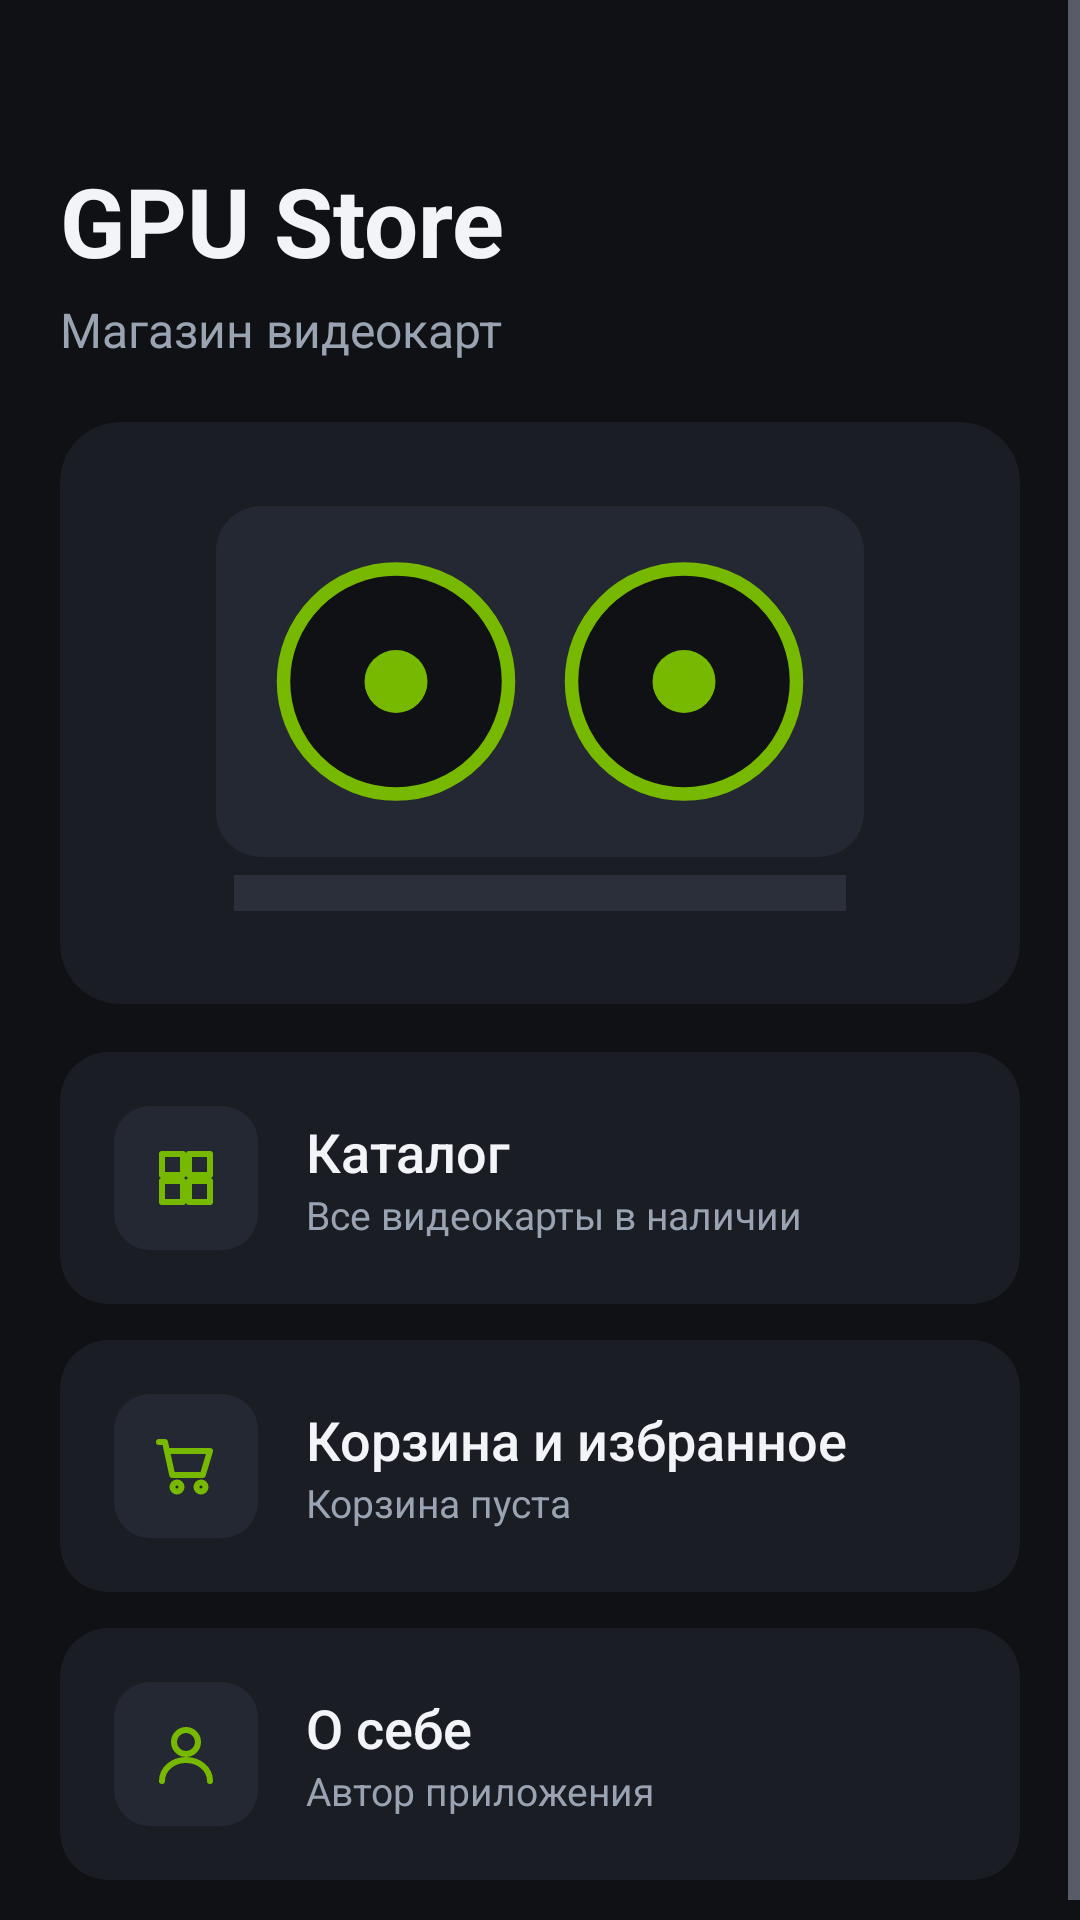

Icons on this 1080px x 1920px Android screen, each with the point to tap as (x=x, y=y):
cart: (x=186, y=1466)
grid: (x=186, y=1178)
user: (x=186, y=1754)
